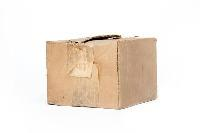damaged package: (64, 34, 121, 50)
undamaged: (42, 31, 160, 111)
